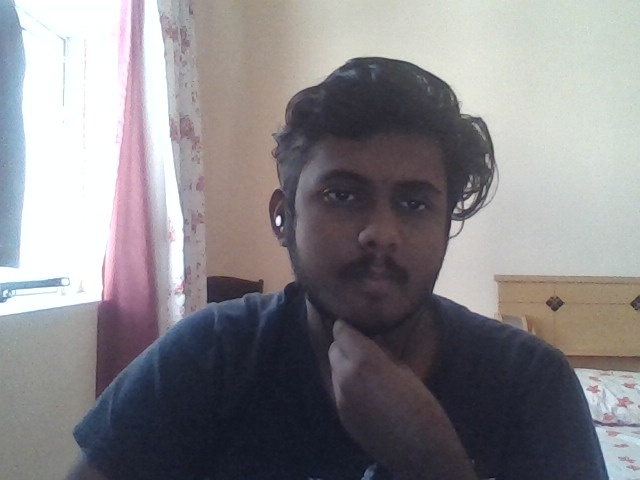thumbsup: (121, 124, 220, 281)
